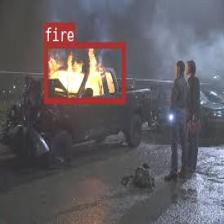fire: (43, 42, 125, 102)
